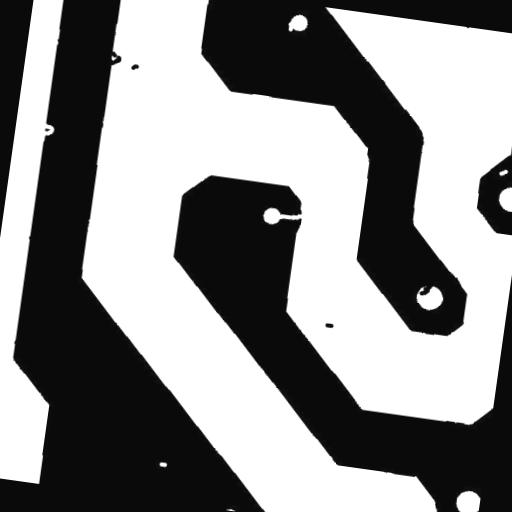copper: (122, 55, 147, 79), (316, 314, 342, 336)
mousebite: (34, 115, 63, 145), (279, 13, 302, 40)
open: (266, 202, 314, 232)
pin-hole: (150, 453, 176, 475), (490, 160, 512, 184)
spur: (407, 268, 442, 305), (98, 42, 130, 75)
